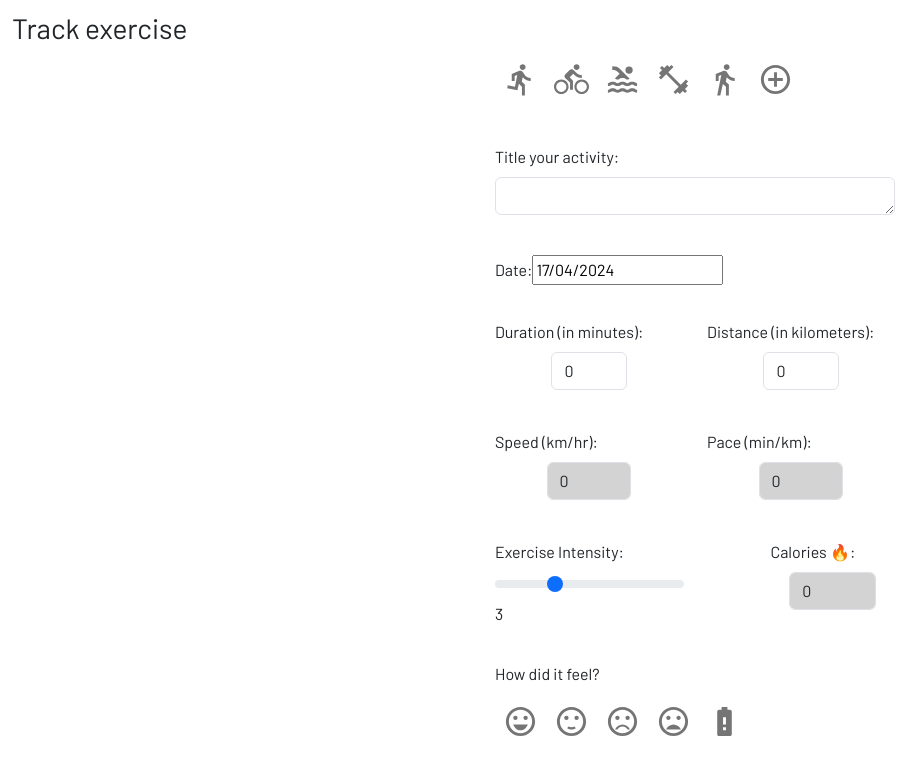
Test: TrackExercise Component › pace calculates correctly
This screenshot has width=912, height=767.
Replace the text in the number field labelled "Distance (in kilometers):" with "8": coordinates (801, 371) [763,352,839,390]
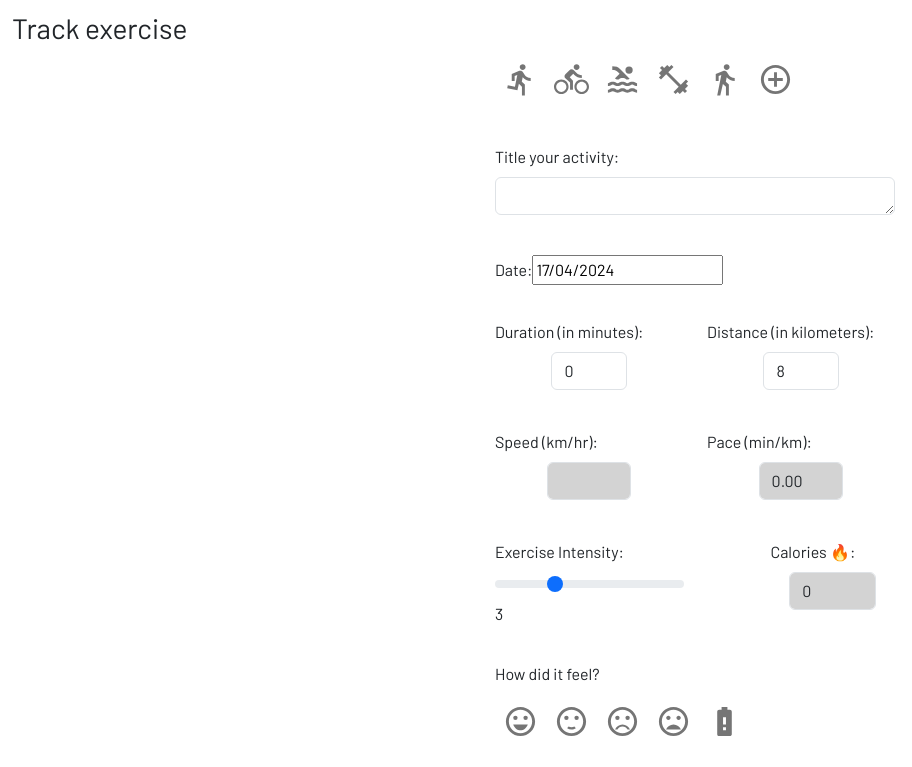
Replace the text in the number field labelled "Duration (in minutes):" with "45": coordinates (589, 371) [551,352,627,390]
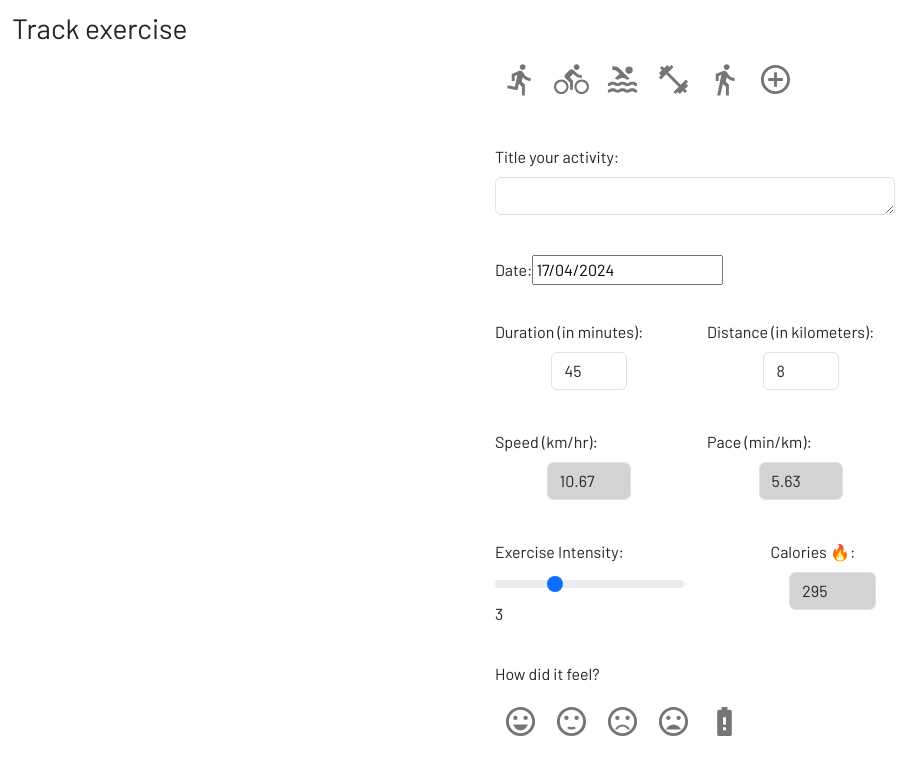
expect the number field labelled "Pace (min/km):" holds "5.63": met, box [759,462,843,500]
